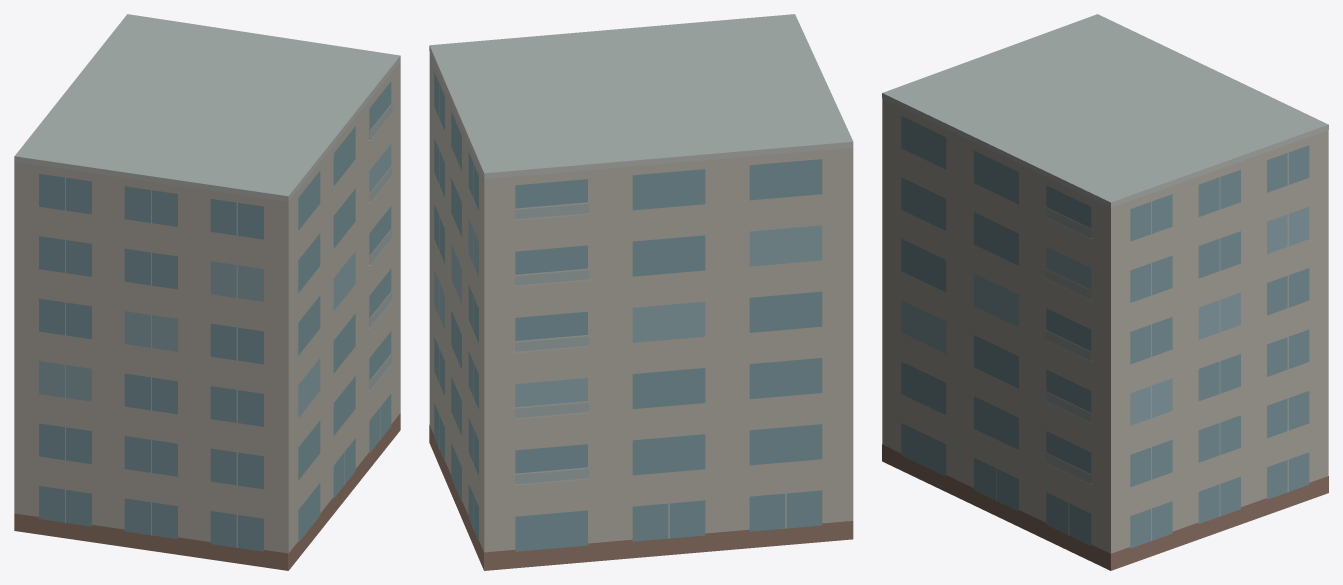
File: survey-upis-32893256.glb
3 renders of one model, left to right at view 1: azimuth 30°, elevation 25°; view 2: azimuth 150°, elevation 25°; view 3: azimuth 270°, elevation 25°, orthographic. The views are drawn at different scales.
Parts seen in each view (by area): view 1: survey-upis-32893256.tmp; view 2: survey-upis-32893256.tmp; view 3: survey-upis-32893256.tmp.
Part boxes in pixels (x1,y1,x2,y2): survey-upis-32893256.tmp: (14,14,400,570); survey-upis-32893256.tmp: (429,14,853,570); survey-upis-32893256.tmp: (882,14,1328,570).
Bounding box in the file's own units: 18.44 × 16.8 × 18.46.
